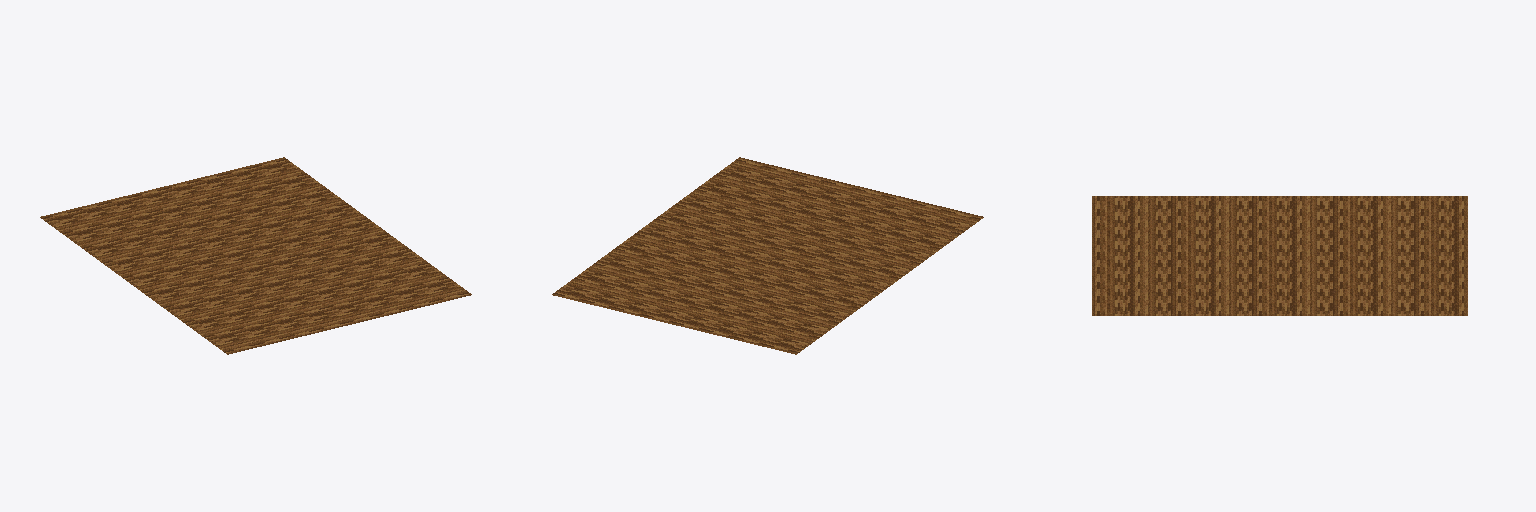
The picture shows the model from 3 angles: view 1: azimuth 30°, elevation 25°; view 2: azimuth 150°, elevation 25°; view 3: azimuth 270°, elevation 25°; orthographic projection.
Visible parts, largest first — view 1: Plane001; view 2: Plane001; view 3: Plane001.
Boxes of the visible parts, box(x1,y1,x2,y2) form: Plane001: box(40, 157, 471, 354); Plane001: box(552, 157, 983, 354); Plane001: box(1092, 196, 1467, 315).
Bounding box in the file's own units: 20.42 × 0 × 27.14.
Materials: 1 (1 with a texture image).